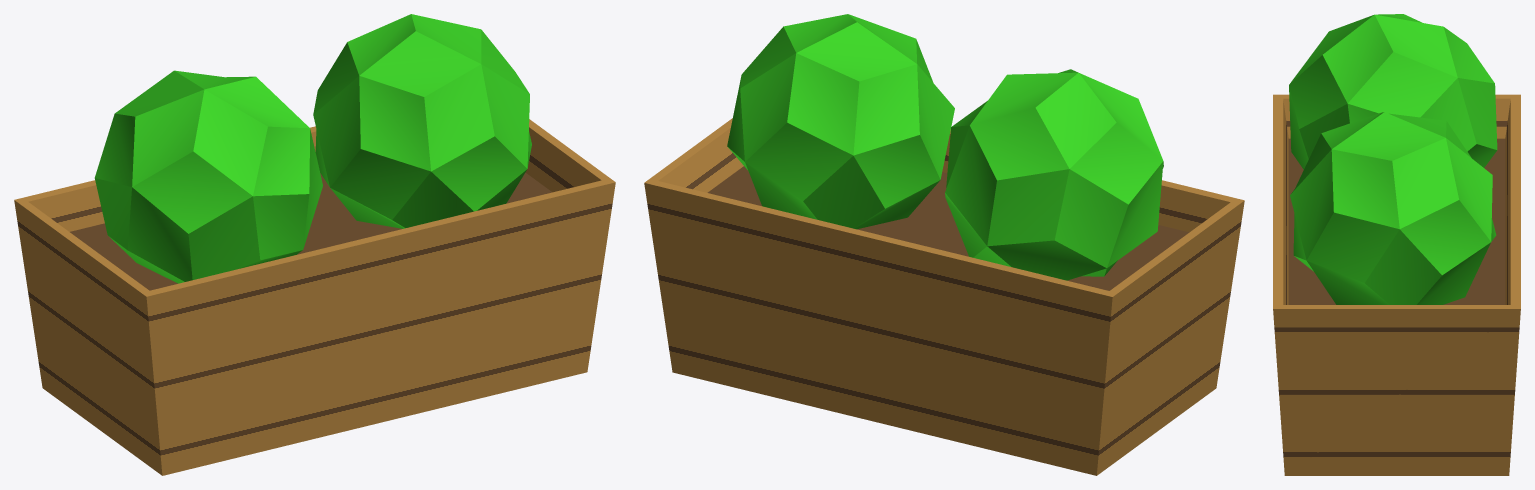
Rendered from PLANT.fbx.
3 views of the same model, side by side, from view 1: azimuth 30°, elevation 25°; view 2: azimuth 150°, elevation 25°; view 3: azimuth 270°, elevation 25° (orthographic). The views are drawn at different scales.
Parts seen in each view (by area): view 1: pPlatonic3; view 2: pPlatonic3; view 3: pPlatonic3.
Boxes of the visible parts, x1=… form: pPlatonic3: x1=14, y1=14, x2=615, y2=475; pPlatonic3: x1=644, y1=14, x2=1244, y2=475; pPlatonic3: x1=1273, y1=14, x2=1520, y2=475.
Size of the model in its own units: 2.6 by 1.75 by 1.27.
1 material, 1 textured.
